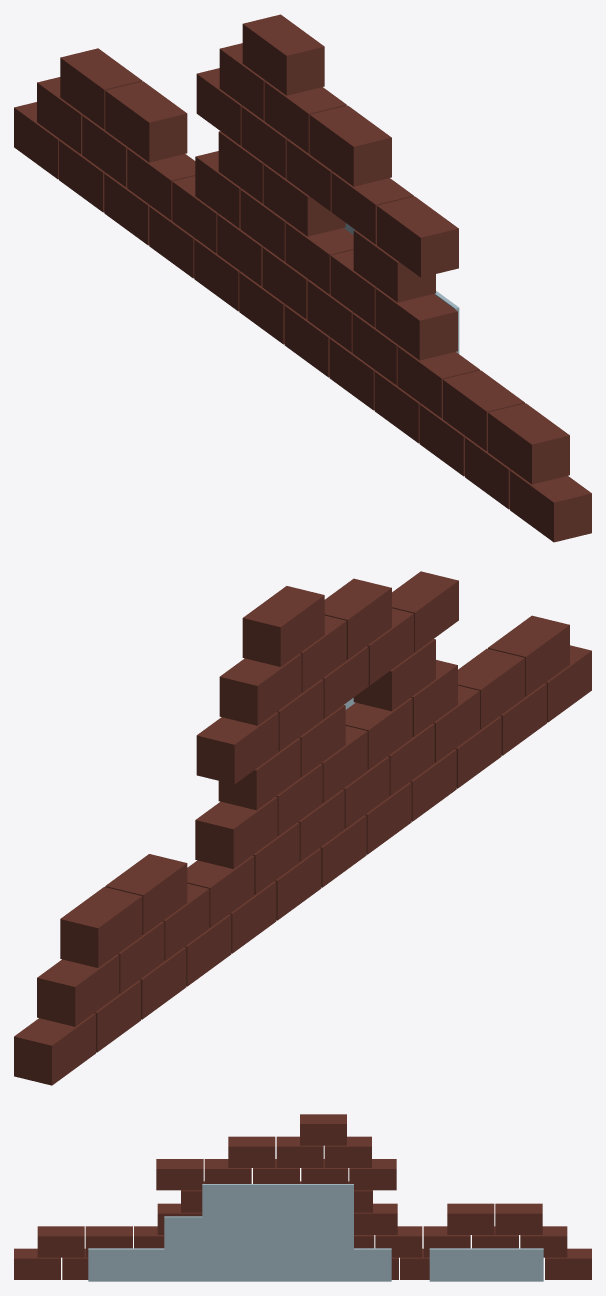
File: brokenWall.fbx
3 renders of one model, top to bottom at view 1: azimuth 30°, elevation 25°; view 2: azimuth 150°, elevation 25°; view 3: azimuth 270°, elevation 25°, orthographic. The views are drawn at different scales.
Visible parts, largest first — view 1: brokenWall_brick1; view 2: brokenWall_brick1; view 3: brokenWall_brick1, brokenWall_wall1.
Boxes of the visible parts, <box> form: brokenWall_brick1: <box>14,14,591,542</box>; brokenWall_brick1: <box>14,571,591,1085</box>; brokenWall_brick1: <box>14,1114,591,1279</box>; brokenWall_wall1: <box>88,1184,543,1281</box>.
Size of the model in its own units: 42.21 by 256 by 859.
